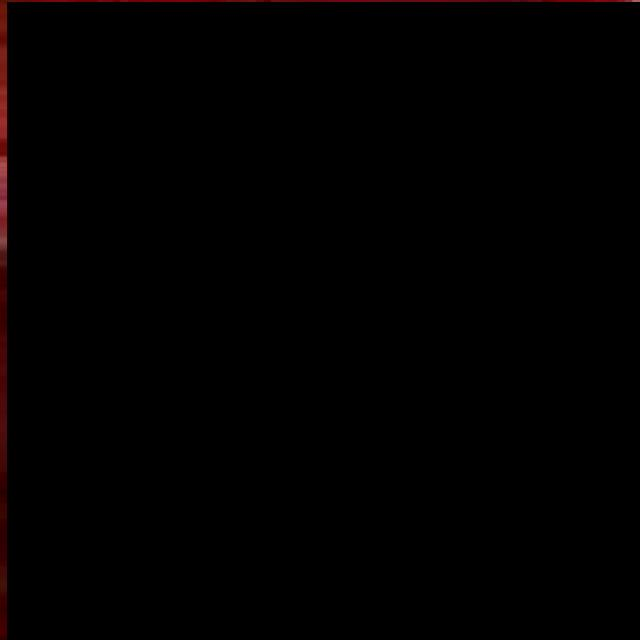fire: (7, 2, 640, 640)
